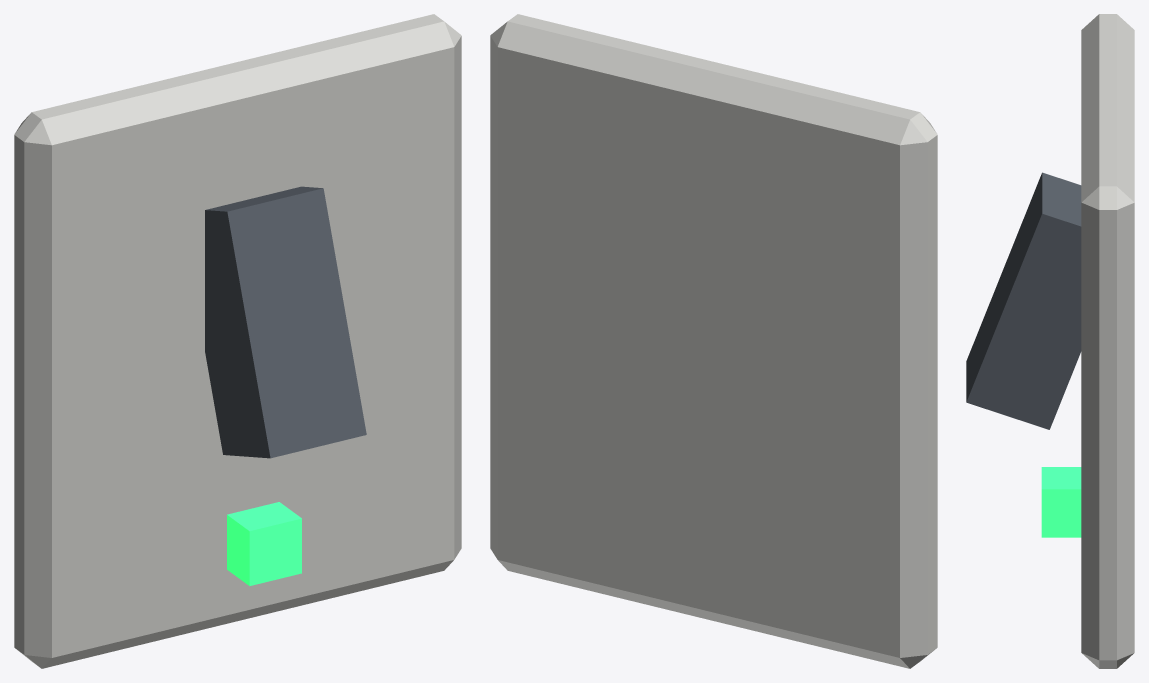
Rendered from light_switch.glb.
3 views of the same model, side by side, from view 1: azimuth 30°, elevation 25°; view 2: azimuth 150°, elevation 25°; view 3: azimuth 270°, elevation 25° (orthographic). The views are drawn at different scales.
Visible parts, largest first — view 1: light_switch; view 2: light_switch; view 3: light_switch.
Part boxes in pixels (x1,y1,x2,y2): light_switch: [14, 14, 461, 668]; light_switch: [490, 14, 937, 668]; light_switch: [966, 14, 1134, 668].
Bounding box in the file's own units: 0.1 × 0.12 × 0.0379.
